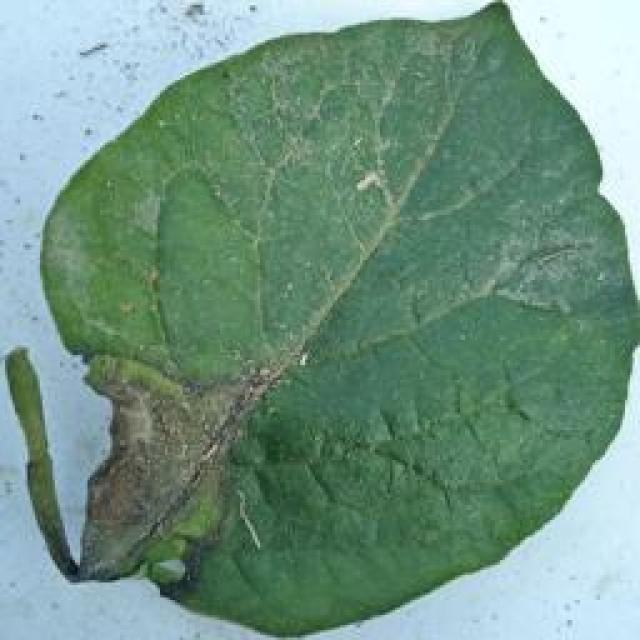Potato_Late_Blight: (13, 4, 628, 630)
